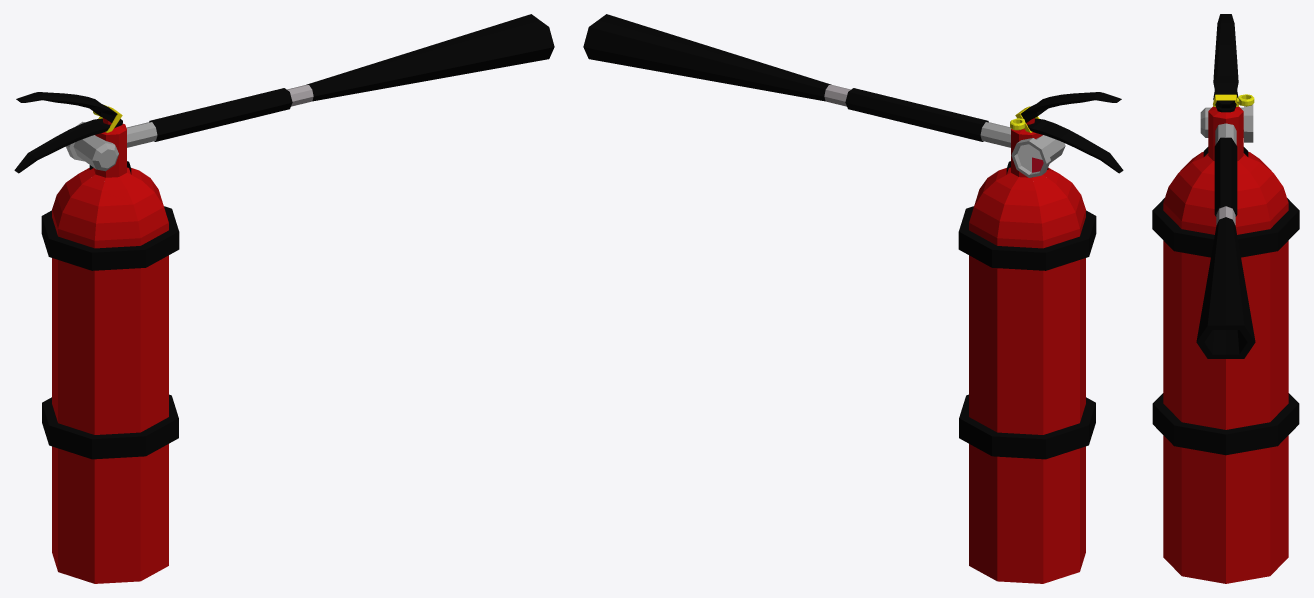
Rendered from active_extinguisher_longNose_Red.fbx.
The picture shows the model from 3 angles, left to right: view 1: azimuth 30°, elevation 25°; view 2: azimuth 150°, elevation 25°; view 3: azimuth 270°, elevation 25°; orthographic projection. The views are drawn at different scales.
Parts seen in each view (by area): view 1: Body, NoseShort, Hose, handletop; view 2: Body, NoseShort, Hose, handletop; view 3: Body, NoseShort, handletop, Hose.
Boxes of the visible parts, left/top/right/bottom form: Body: left=14, top=118, right=179, bottom=583; NoseShort: left=287, top=14, right=554, bottom=106; Hose: left=149, top=88, right=292, bottom=141; handletop: left=16, top=92, right=119, bottom=123; Body: left=958, top=118, right=1123, bottom=583; NoseShort: left=583, top=14, right=850, bottom=106; Hose: left=845, top=88, right=988, bottom=141; handletop: left=1020, top=92, right=1121, bottom=122; Body: left=1152, top=90, right=1299, bottom=583; NoseShort: left=1196, top=206, right=1255, bottom=358; handletop: left=1213, top=14, right=1238, bottom=108; Hose: left=1214, top=137, right=1237, bottom=216.
Size of the model in its own units: 495 by 436 by 116.
